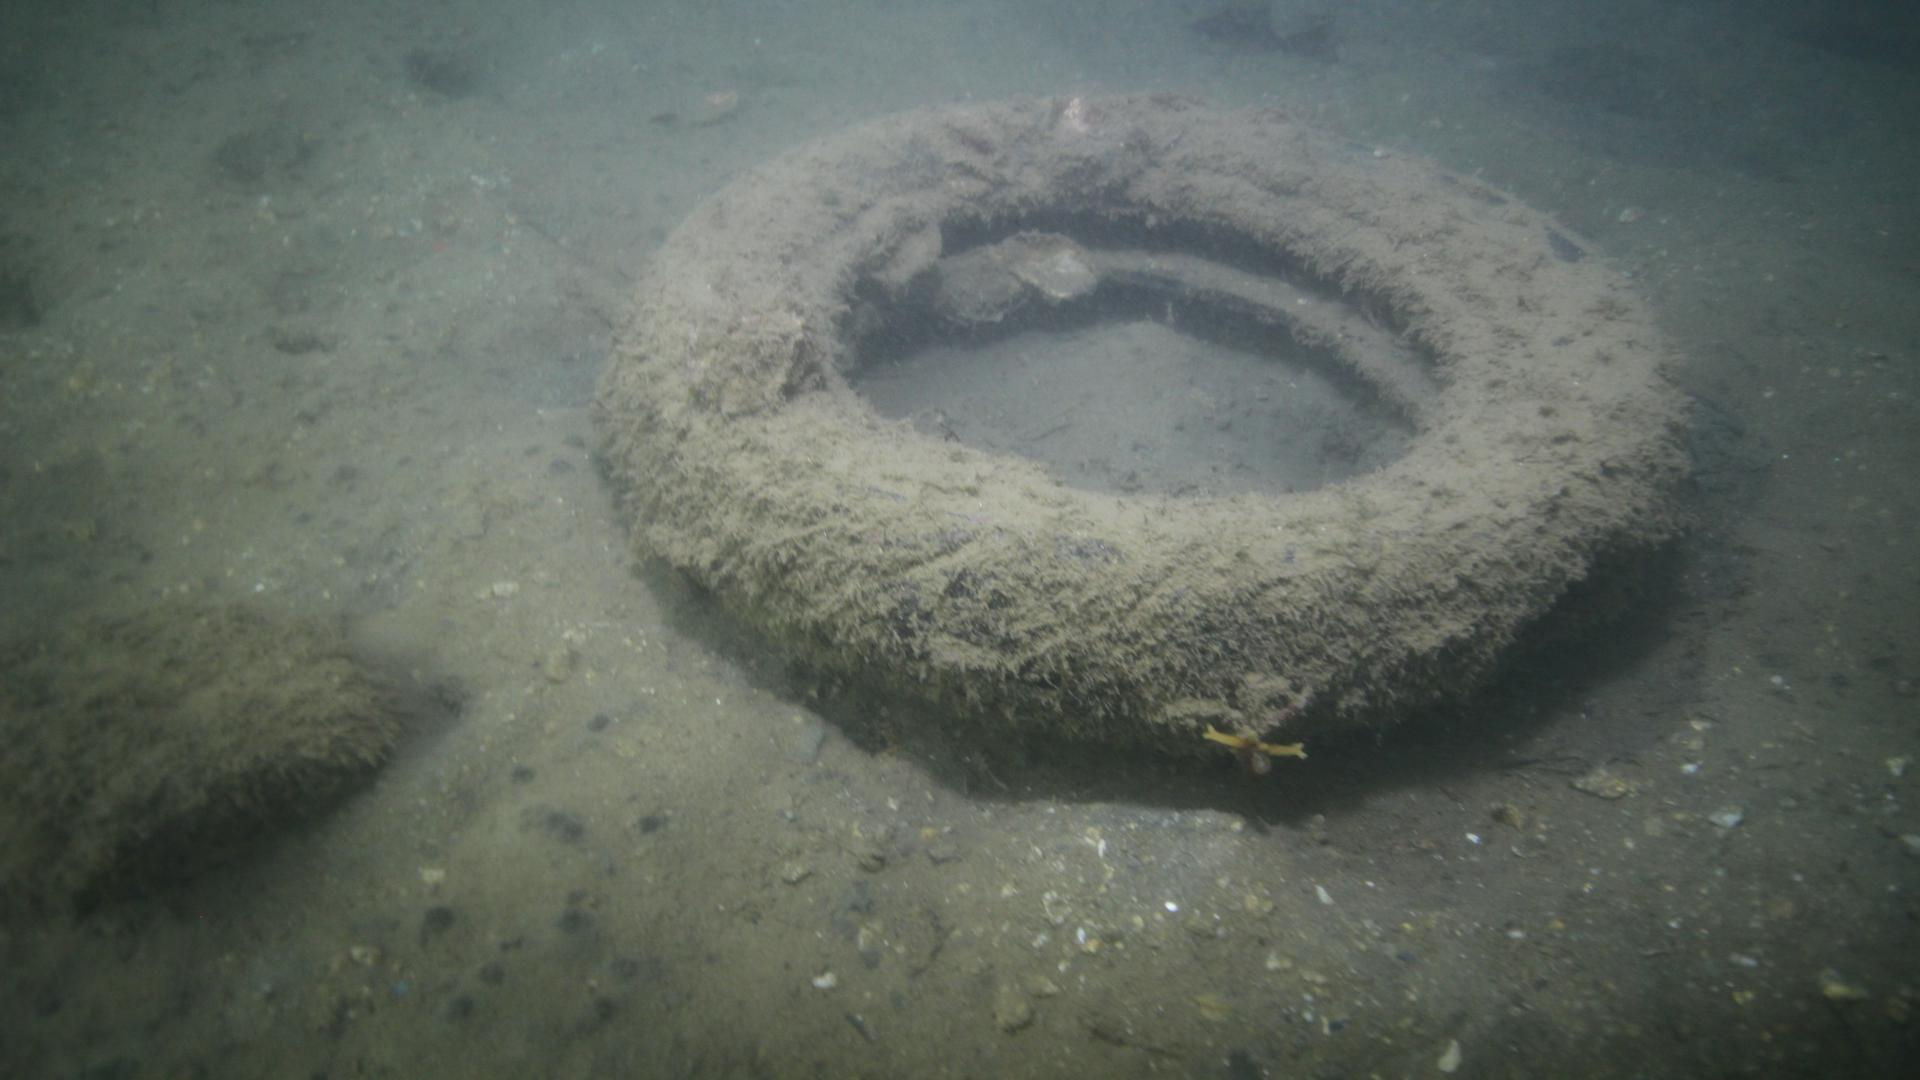tire: (593, 90, 1677, 770)
